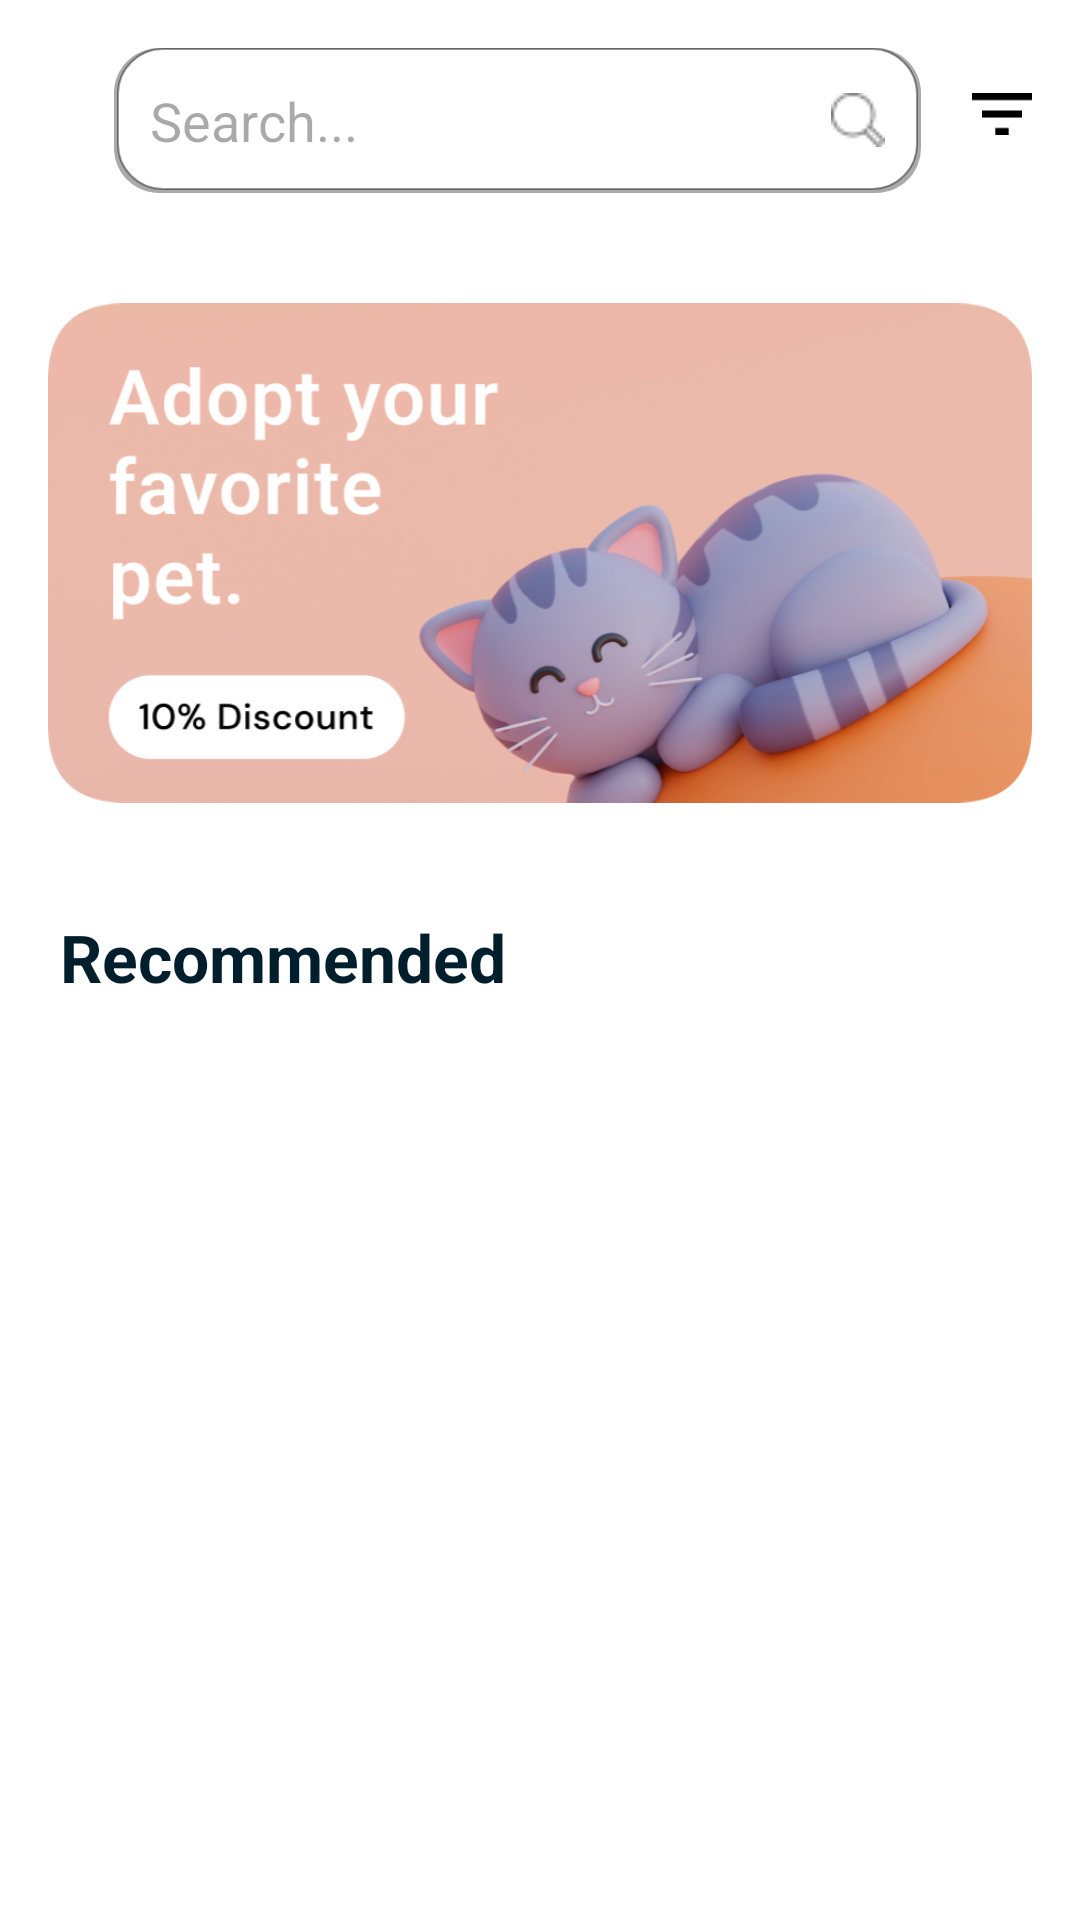

Icons on this 1080w x 1920h Android screen, each with the point to tap as point (x, y):
sorting icon: point (1002, 114)
